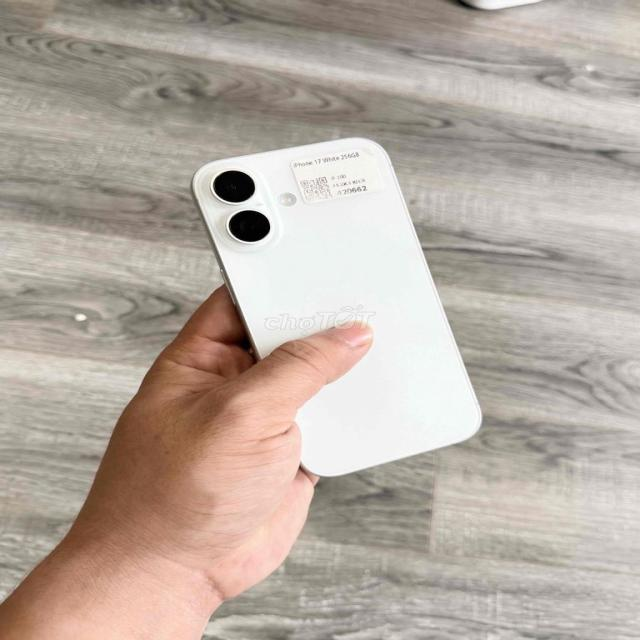gen_17: (192, 138, 480, 476)
